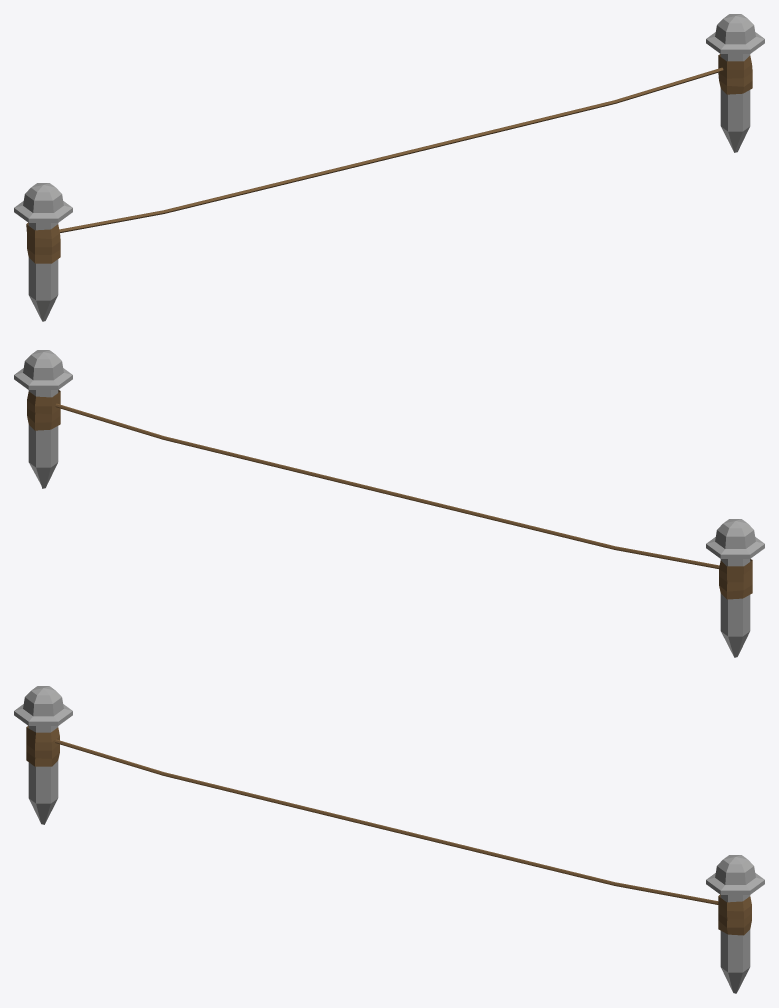
File: TripWire.fbx
3 views of the same model, one above another, from view 1: azimuth 30°, elevation 25°; view 2: azimuth 150°, elevation 25°; view 3: azimuth 330°, elevation 25° (orthographic).
Parts seen in each view (by area): view 1: Cylinder, Cylinder.002; view 2: Cylinder, Cylinder.002; view 3: Cylinder, Cylinder.002.
Part boxes in pixels (box(x1,y1,x2,y2)): Cylinder: box(14, 14, 764, 321); Cylinder.002: box(59, 67, 723, 232); Cylinder: box(14, 350, 764, 657); Cylinder.002: box(55, 403, 719, 568); Cylinder: box(14, 686, 764, 993); Cylinder.002: box(55, 739, 718, 904).
Size of the model in its own units: 3.32 by 0.5865 by 0.2303.
